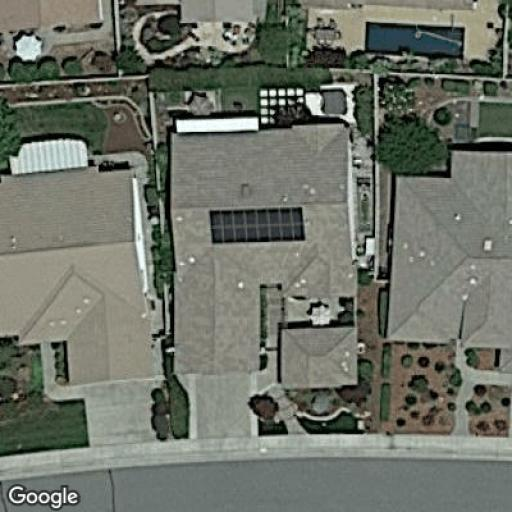solar-panel: (208, 204, 306, 247)
